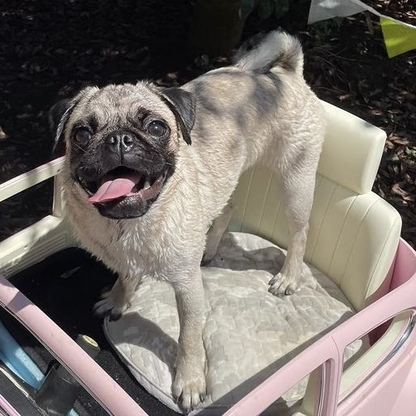Pug: (41, 24, 333, 416)
